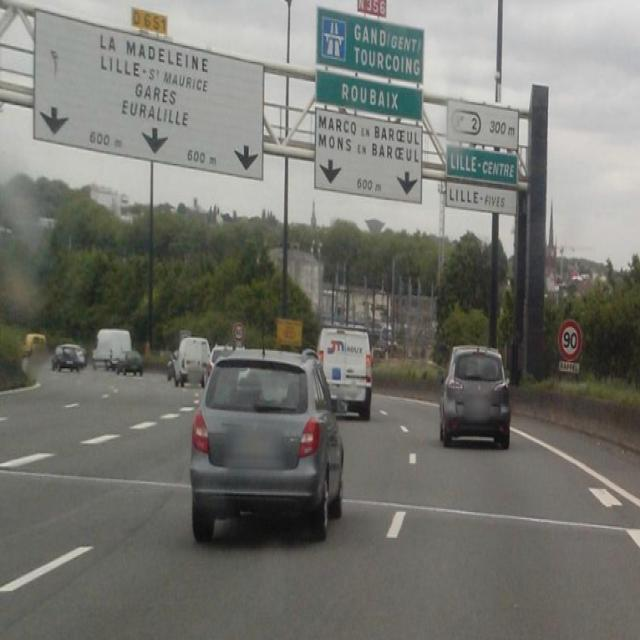speed_90: (559, 320, 582, 360)
